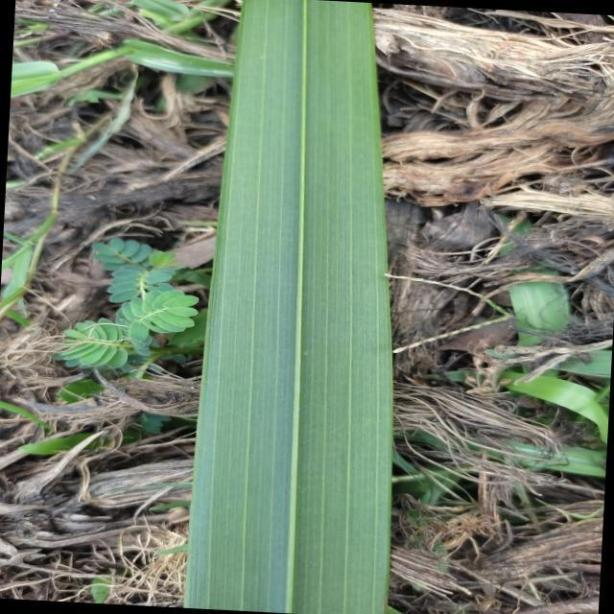Healthy: (182, 0, 395, 614)
